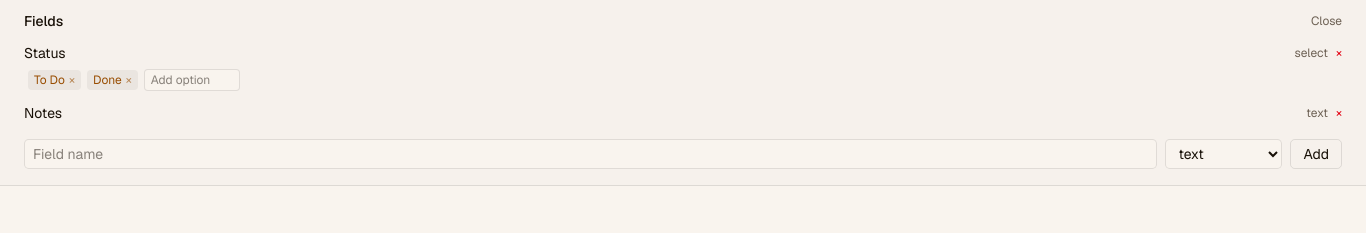
SchemaEditor › removes a pending option before the field is created
The width and height of the screenshot is (1366, 233).
Select "select" in the dropdown named "Field type" at coordinates (1224, 154), box [1165, 139, 1282, 169]
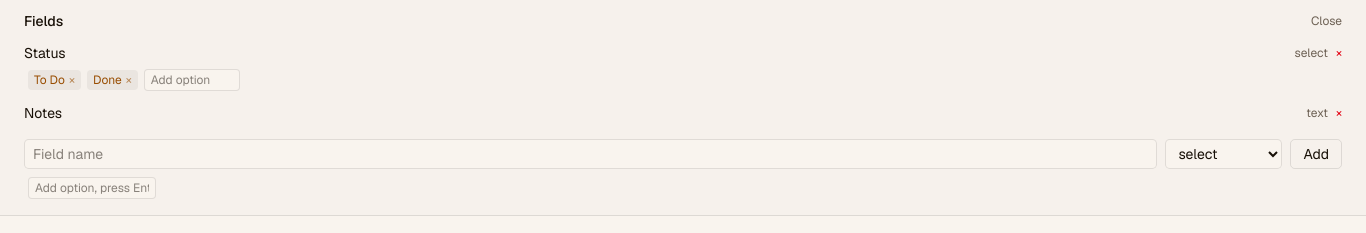
Type "Low" into the field named "New field option".
click(92, 188); type("Low")  # box [28, 177, 156, 199]
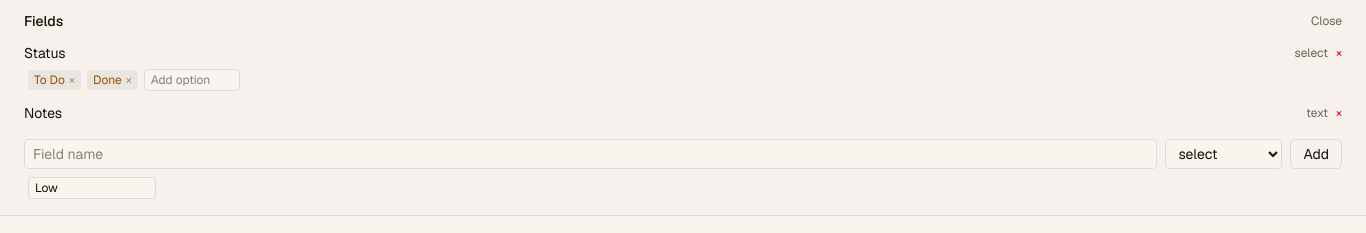
Press Enter in the field named "New field option", box [28, 177, 156, 199]
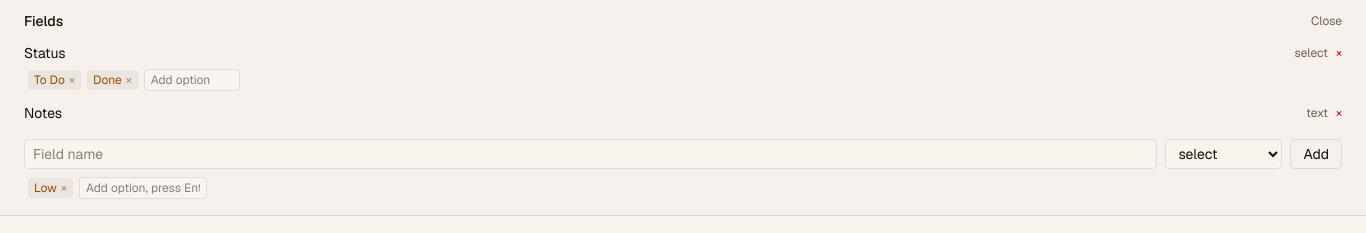
expect the text "Low" is shown: met, box [34, 180, 57, 196]
Click the button named "Remove option Low".
click(64, 188)  # box [61, 180, 67, 196]
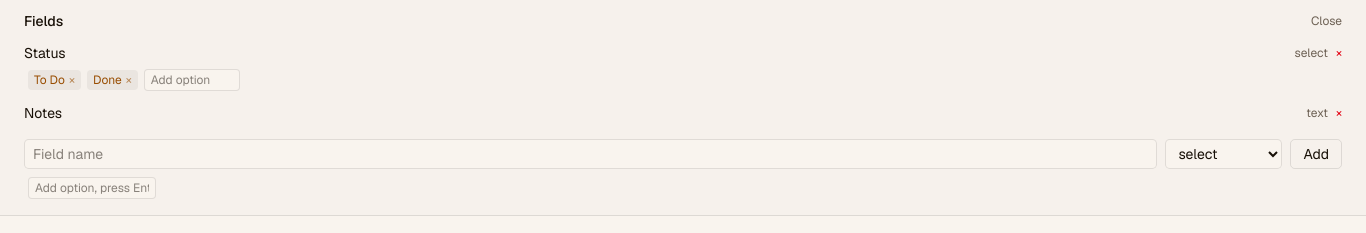
expect the text "Low" is gone: met
